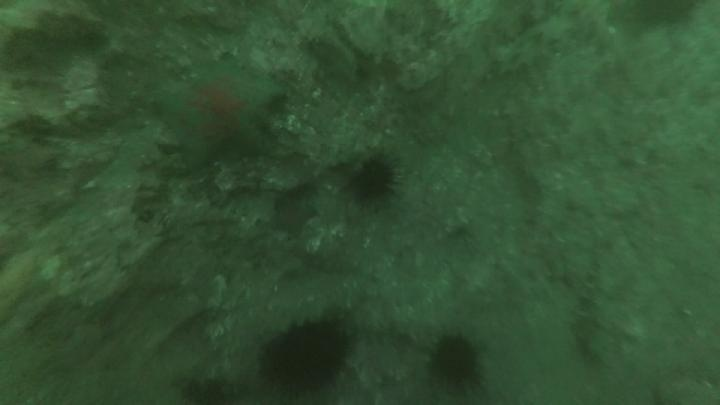echinus: (257, 316, 354, 399), (424, 330, 487, 393), (346, 153, 402, 208), (618, 1, 701, 31)
holothurian: (571, 250, 627, 367), (488, 14, 575, 77)
starfish: (152, 55, 289, 172), (269, 194, 319, 239)
